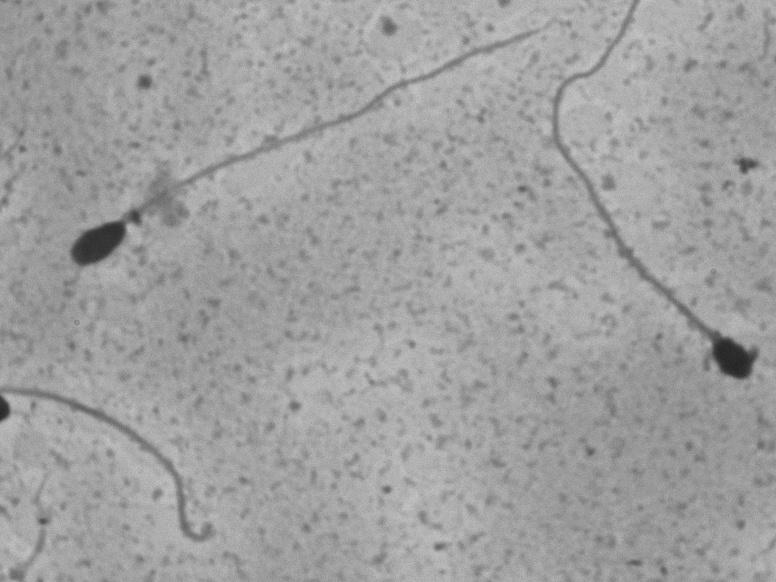Normal: (58, 21, 526, 281), (537, 3, 763, 398)
